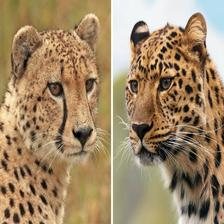Cheetah: (0, 13, 112, 222), (115, 13, 224, 224)
